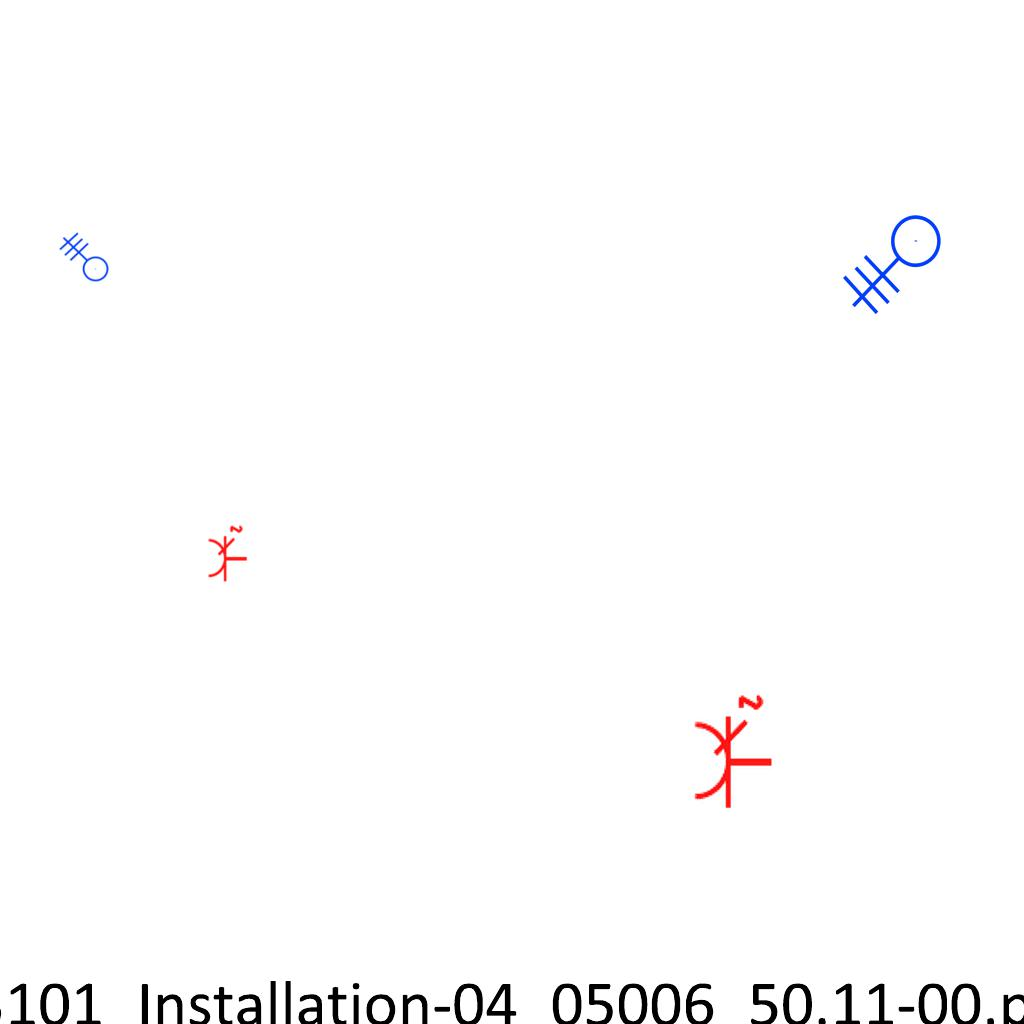Elektroanschluss_allgemein_400V_Geraeteanschlussdose_400V: (842, 214, 958, 327), (53, 232, 109, 290)
Schukosteckdose_mehrfach: (690, 692, 778, 813), (206, 524, 250, 584)
